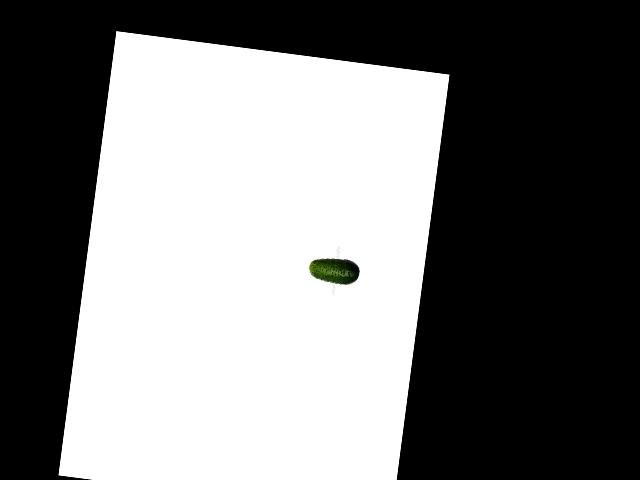cucumber: (307, 255, 361, 287)
